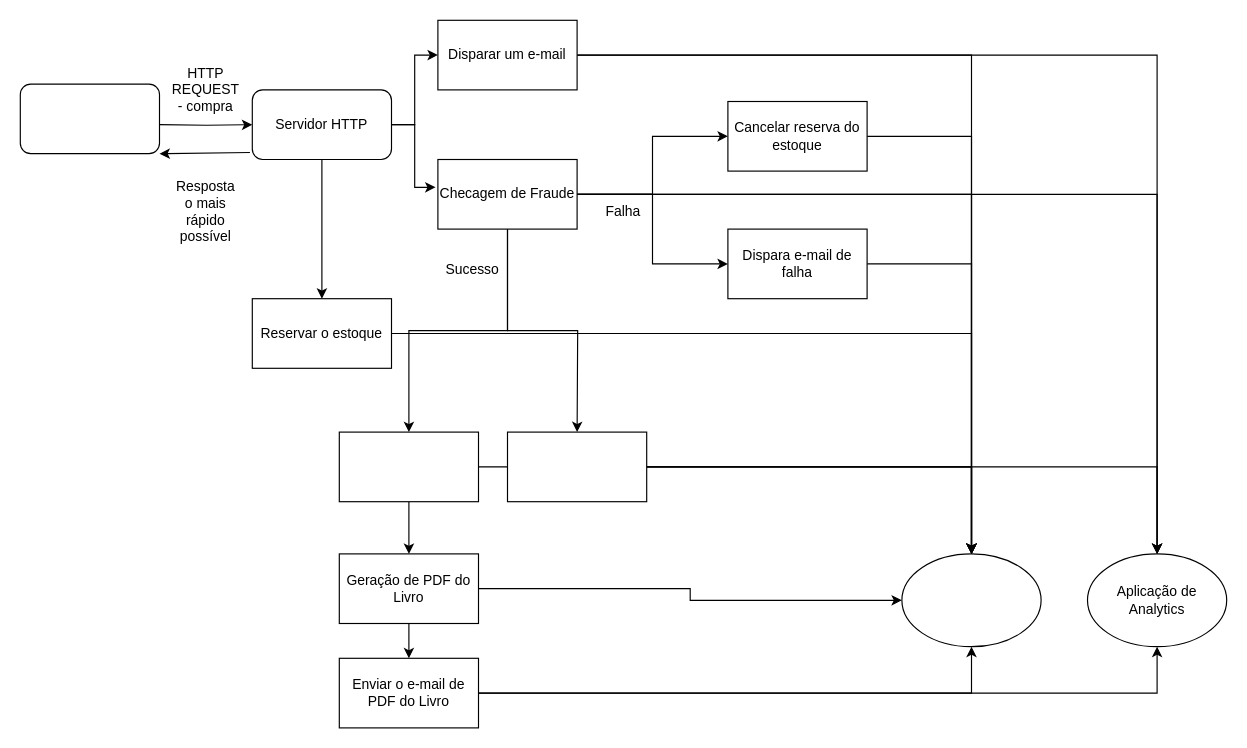
Some shapes in this 1247 by 748 pixel diagram are drawn without their labels. Here are the shapes that lost their labels. From the top down, the centre of each, then its label:
At point 89,118: "Navegador (user)".
At point 408,466: "Efetua pagamento".
At point 576,466: "Confirmar a reserva do estoque".
At point 971,600: "Aplicação de LOG".
